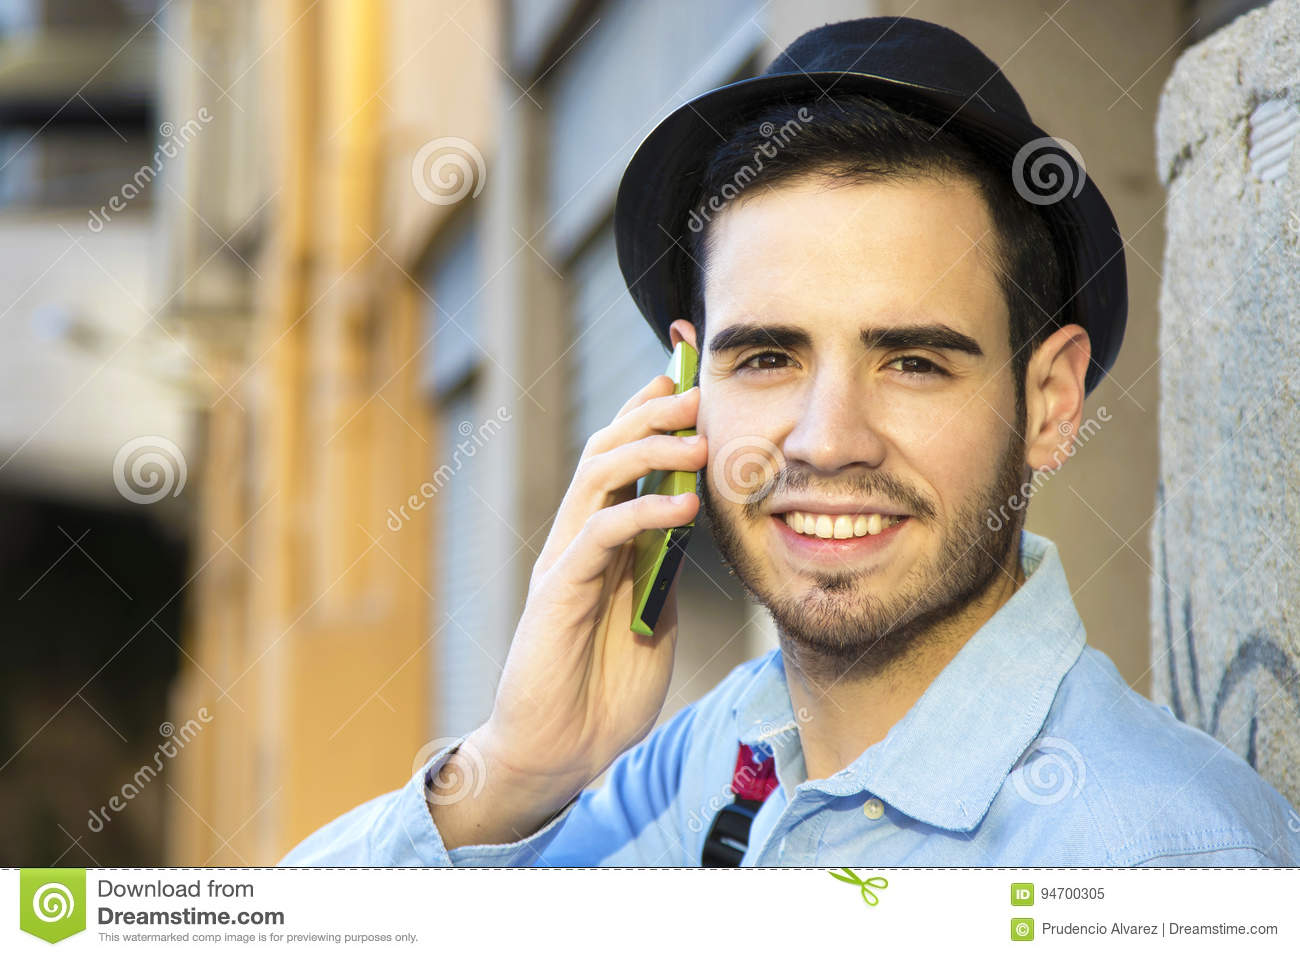phone: (621, 334, 700, 644)
talk: (499, 308, 988, 765)
